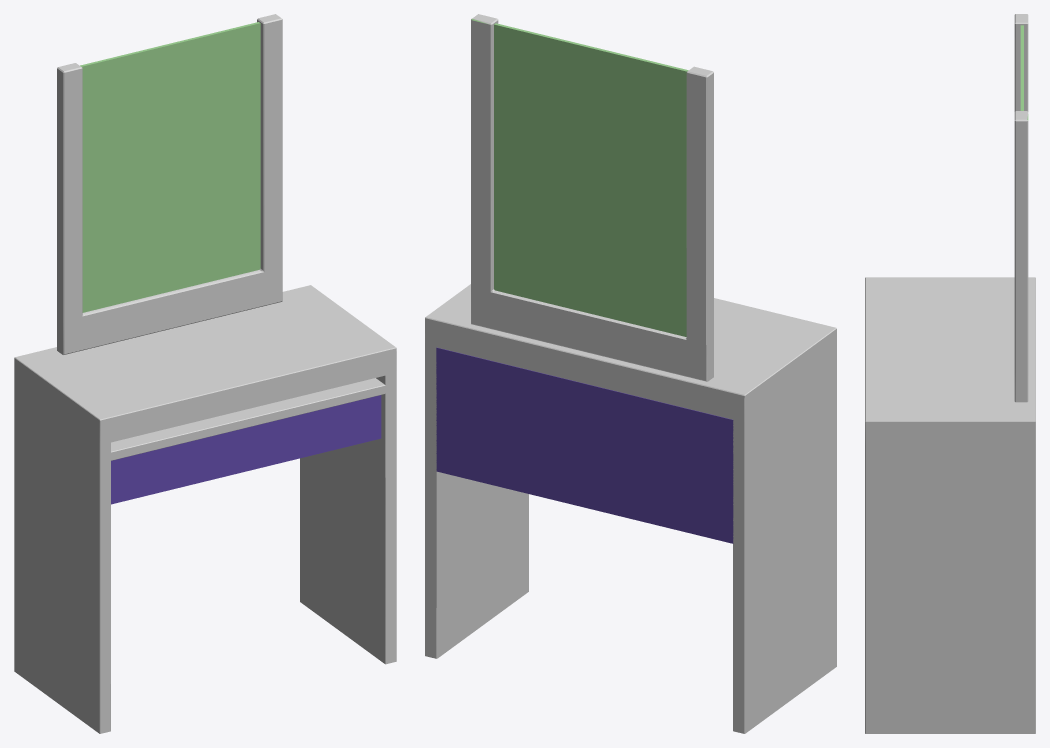
The model's file is dressing_table.FBX.
The picture shows the model from 3 angles, left to right: view 1: azimuth 30°, elevation 25°; view 2: azimuth 150°, elevation 25°; view 3: azimuth 270°, elevation 25°; orthographic projection. The views are drawn at different scales.
Visible parts, largest first — view 1: 88C022; view 2: 88C022; view 3: 88C022.
Part boxes in pixels (<box>): 88C022: <box>14,14,396,733</box>; 88C022: <box>425,14,836,733</box>; 88C022: <box>865,14,1035,733</box>.
Size of the model in its own units: 78 by 39 by 150.
